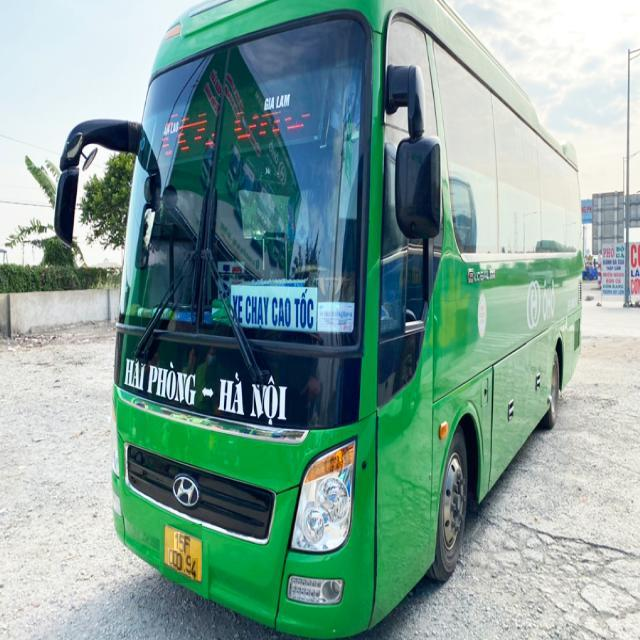car: (99, 0, 589, 640)
plate: (156, 526, 210, 588)
